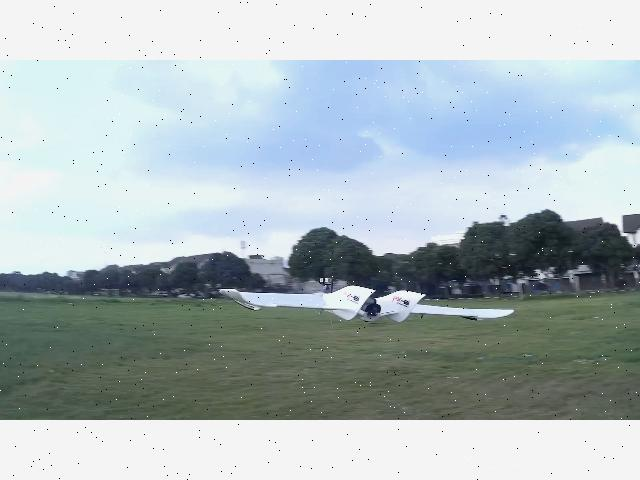Anti-Drone: (220, 286, 514, 322)
